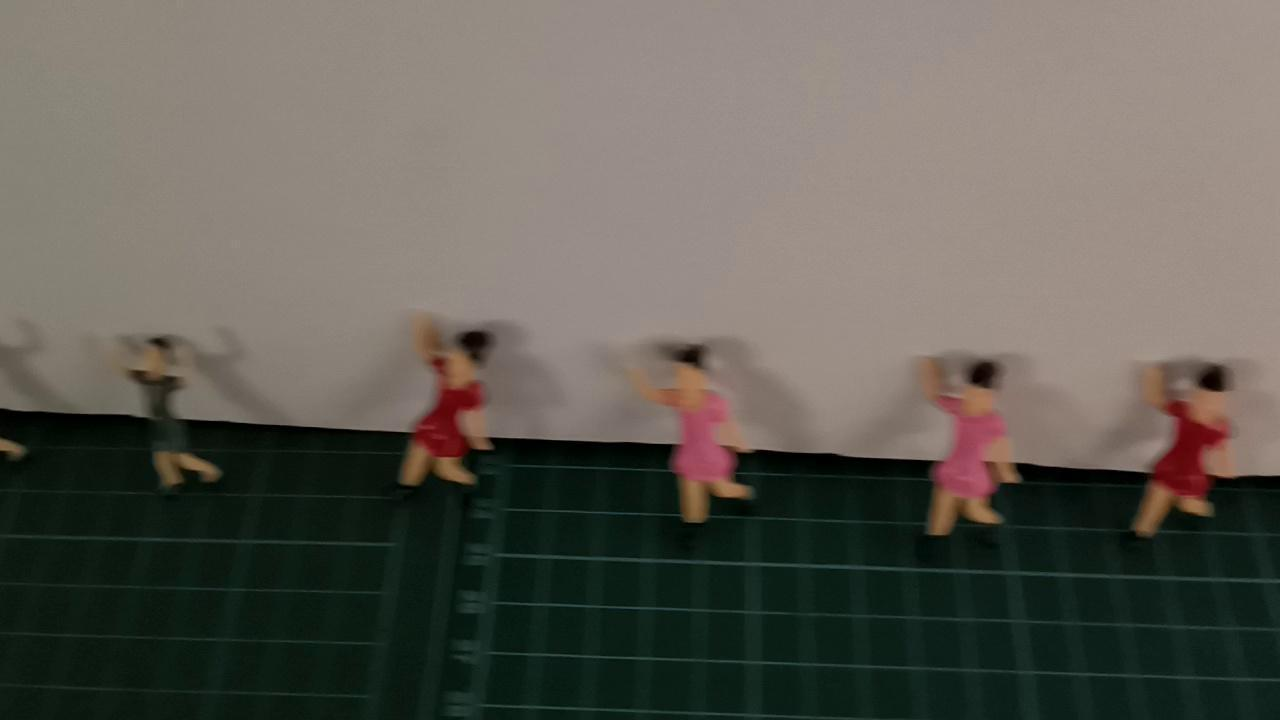human: (621, 340, 763, 534), (911, 350, 1024, 554), (1135, 354, 1242, 558), (399, 306, 501, 504), (113, 330, 229, 502), (1, 438, 39, 474)
